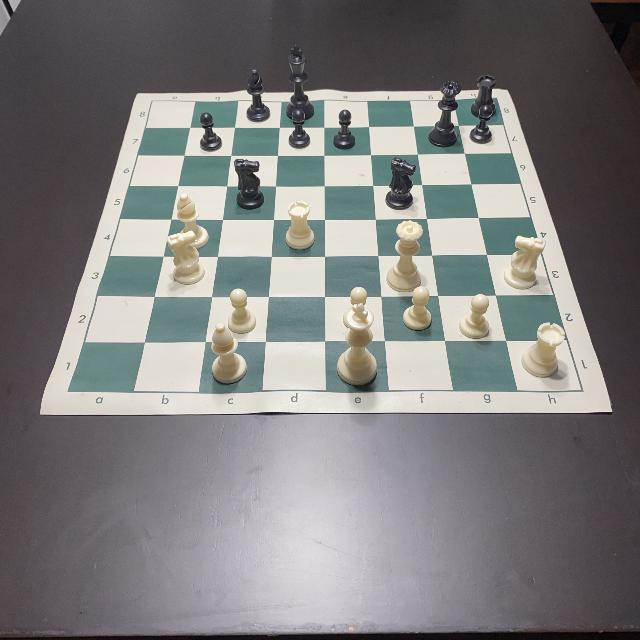black-king: (286, 45, 314, 122)
black-knight: (385, 157, 415, 210), (234, 160, 264, 208)
black-pawn: (198, 112, 222, 152), (469, 105, 493, 144), (288, 110, 310, 148), (332, 111, 353, 149)
black-queen: (432, 78, 461, 146)
black-rook: (472, 75, 496, 117)
board: (42, 89, 612, 414)
white-bishop: (213, 322, 247, 383), (176, 192, 208, 248), (243, 68, 267, 124)
white-king: (336, 304, 378, 386)
white-knight: (502, 237, 544, 290), (166, 232, 204, 284)
white-pawn: (226, 290, 256, 334), (402, 286, 432, 330), (459, 295, 488, 339), (343, 288, 372, 328)
white-queen: (387, 221, 421, 291)
white-rook: (522, 322, 566, 376), (284, 202, 314, 246)
